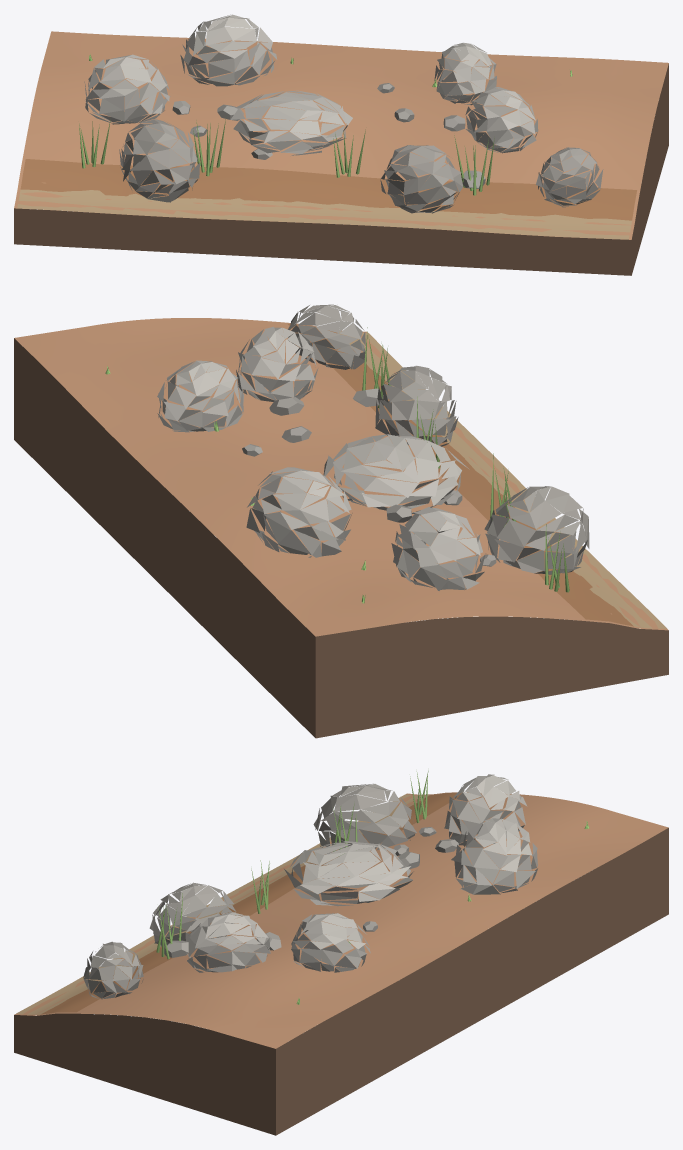
File: south_indian_village_river_bank_8x4.glb
The picture shows the model from 3 angles, top to bottom: view 1: azimuth 30°, elevation 25°; view 2: azimuth 150°, elevation 25°; view 3: azimuth 270°, elevation 25°; orthographic projection. The views are drawn at different scales.
Parts seen in each view (by area): view 1: Riverbank_Laterite_Slope, Bank_Granite_Boulders, Riverbank_Foundation_Skirt, Reed_Cluster_1, Reed_Cluster_3, Reed_Cluster_2, Reed_Cluster_4; view 2: Riverbank_Laterite_Slope, Riverbank_Foundation_Skirt, Bank_Granite_Boulders, Reed_Cluster_4; view 3: Riverbank_Foundation_Skirt, Riverbank_Laterite_Slope, Bank_Granite_Boulders.
Boxes of the visible parts, bbox=[...] form: Riverbank_Laterite_Slope: bbox=[14, 31, 668, 239]; Bank_Granite_Boulders: bbox=[84, 14, 603, 213]; Riverbank_Foundation_Skirt: bbox=[14, 64, 668, 275]; Reed_Cluster_1: bbox=[193, 119, 225, 176]; Reed_Cluster_3: bbox=[454, 135, 494, 195]; Reed_Cluster_2: bbox=[333, 129, 365, 177]; Reed_Cluster_4: bbox=[79, 120, 110, 168]; Riverbank_Laterite_Slope: bbox=[14, 318, 668, 636]; Riverbank_Foundation_Skirt: bbox=[14, 338, 668, 738]; Bank_Granite_Boulders: bbox=[157, 304, 589, 590]; Reed_Cluster_4: bbox=[545, 524, 569, 592]; Riverbank_Foundation_Skirt: bbox=[14, 828, 668, 1135]; Riverbank_Laterite_Slope: bbox=[14, 792, 668, 1048]; Bank_Granite_Boulders: bbox=[83, 774, 537, 999].
Size of the model in its own units: 8.8 by 1.89 by 8.
